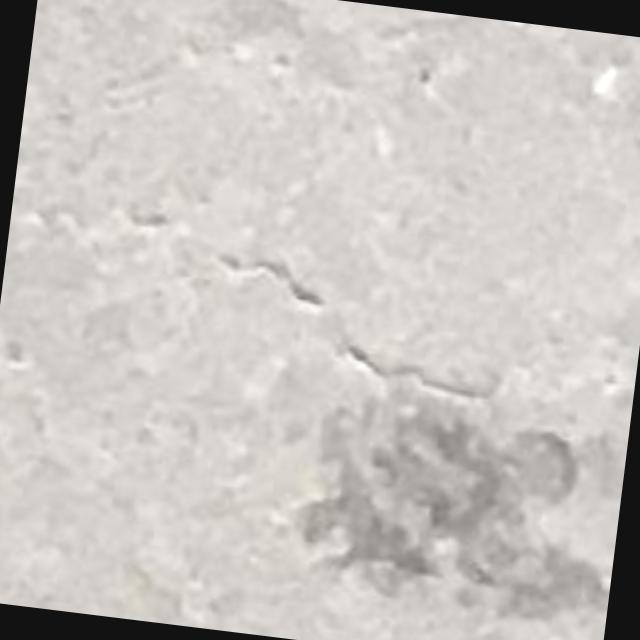crack: (336, 318, 489, 401)
peeling plaster: (300, 385, 609, 621)
